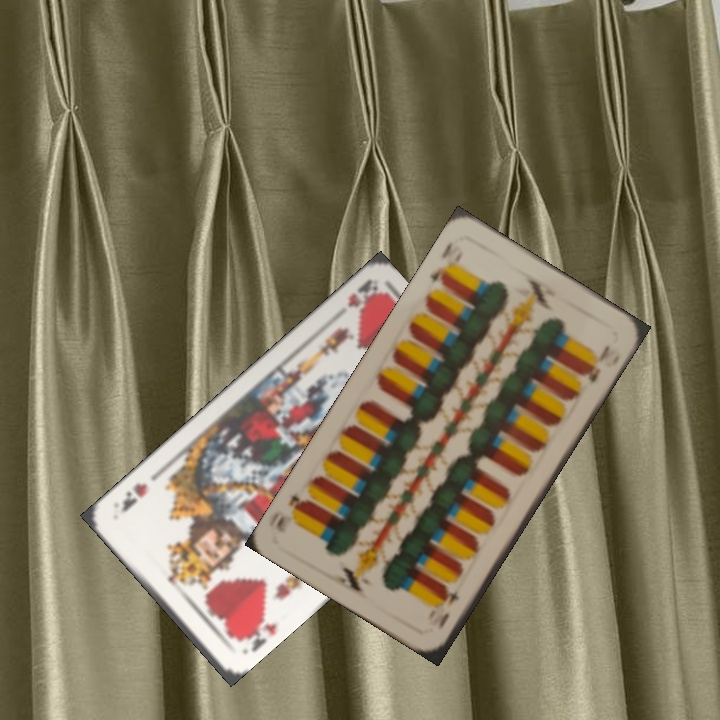E10: (425, 237, 461, 289), (433, 580, 465, 633)
HK: (232, 610, 280, 655), (343, 276, 382, 314)
